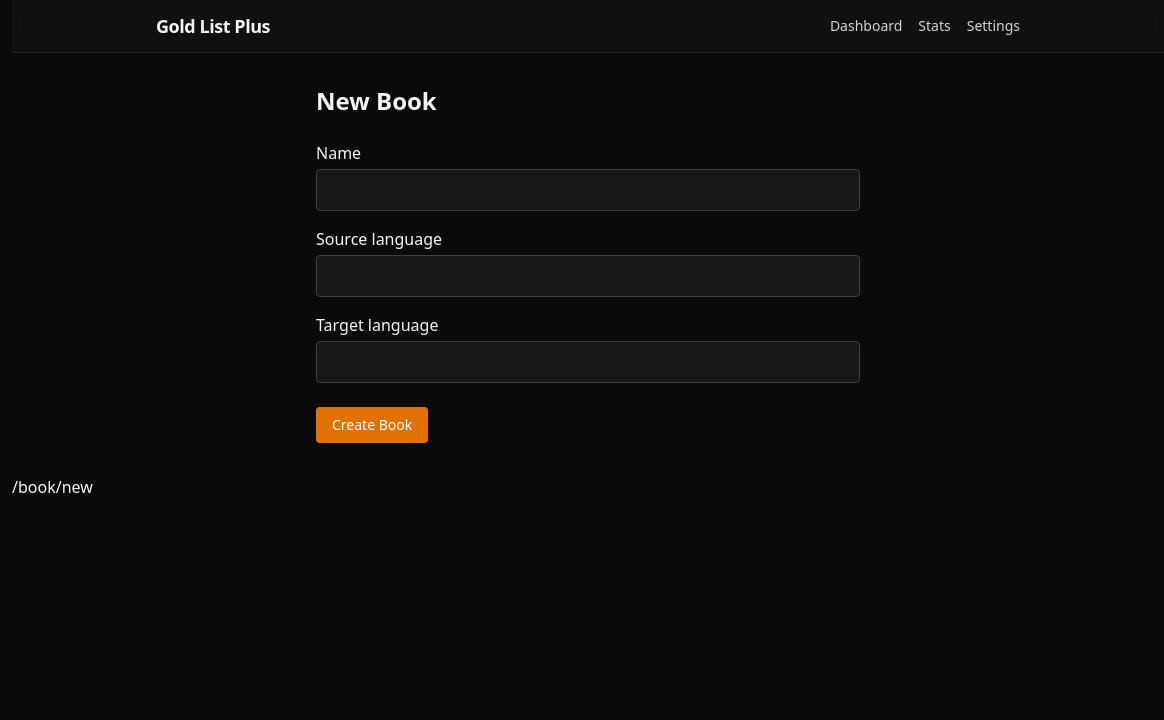
Scenario: TASK-010 AC-4: partial-fill submit › TASK-010 AC-4: name-only filled → error-name absent, error-sourceLang + error-targetLang present, no Book row written
The image size is (1164, 720).
Step 1. Type "Japanese" into the field labelled "Name" → (588, 190), box [316,169,860,211]
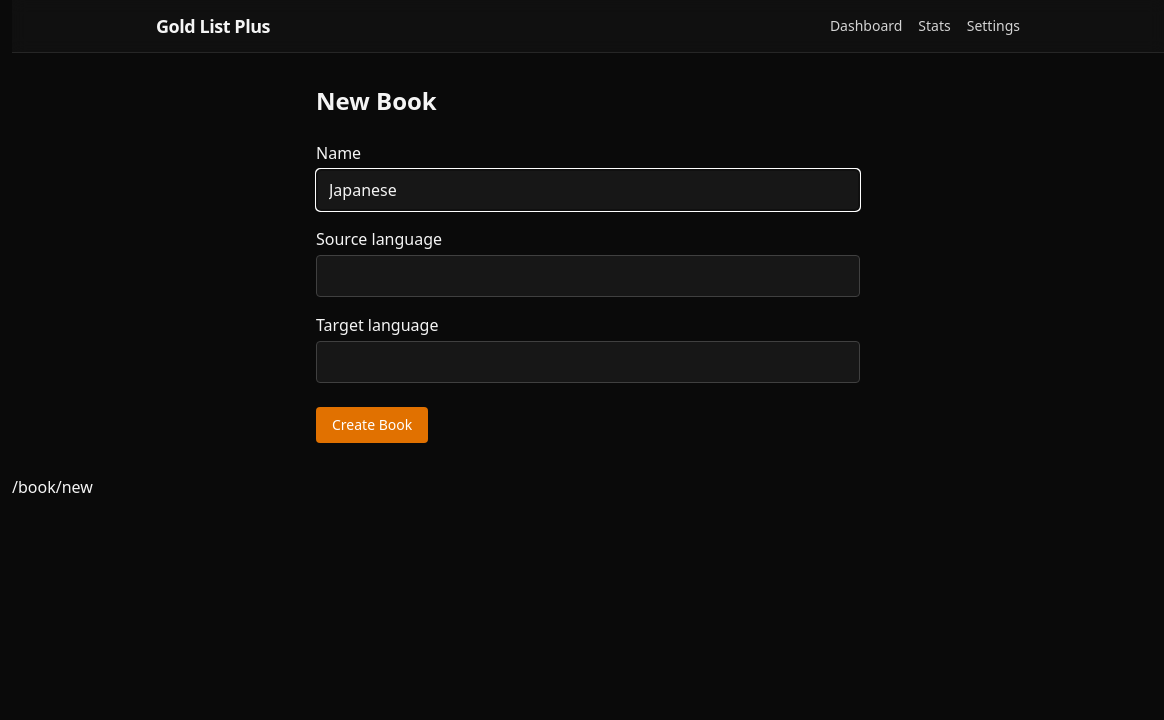
Step 2. Click the button "Create Book" → (372, 425), box [316,407,428,443]
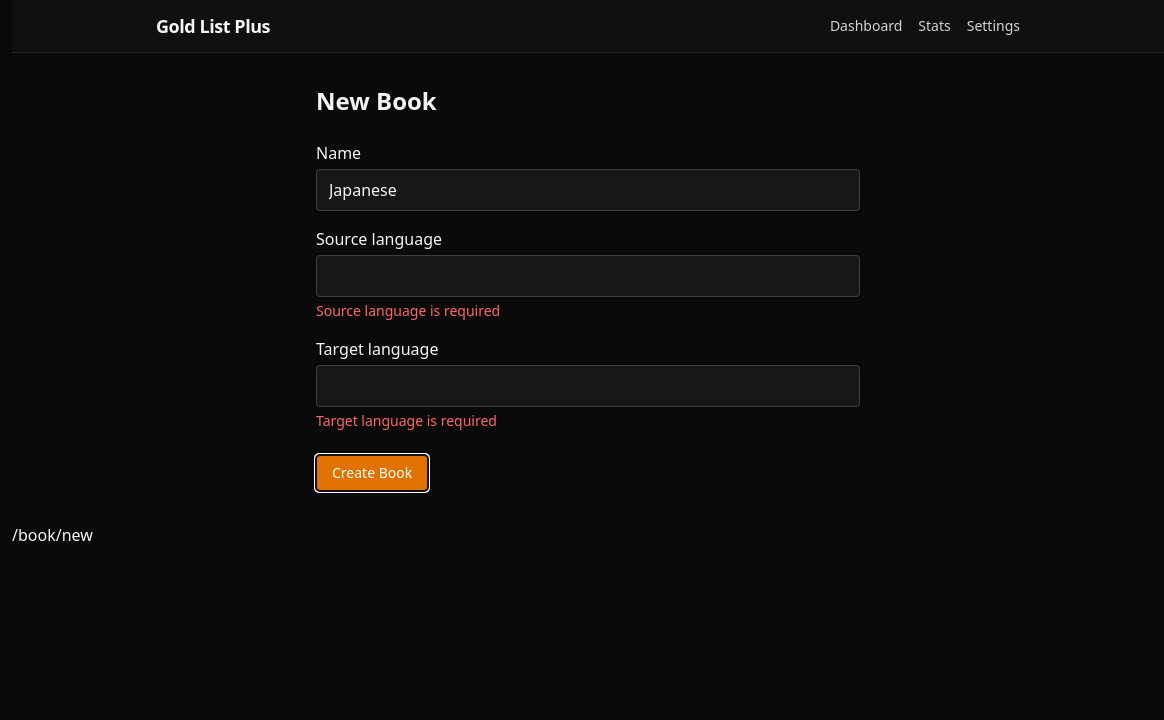
Expected: the text with test id "probe-pathname" reads "/book/new", [12,524,93,546]
Expected: the message "Source language is required" is shown, [316,301,500,320]
Expected: the message "Target language is required" is shown, [316,411,497,430]
